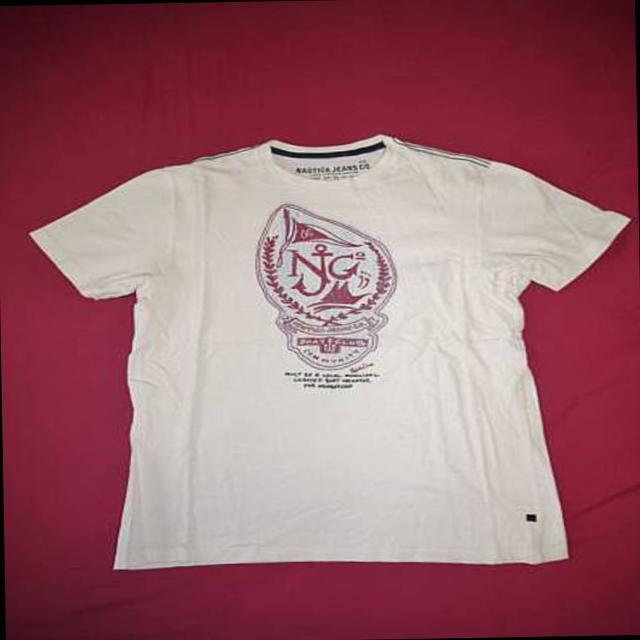T_SHIRT: (14, 118, 640, 585)
